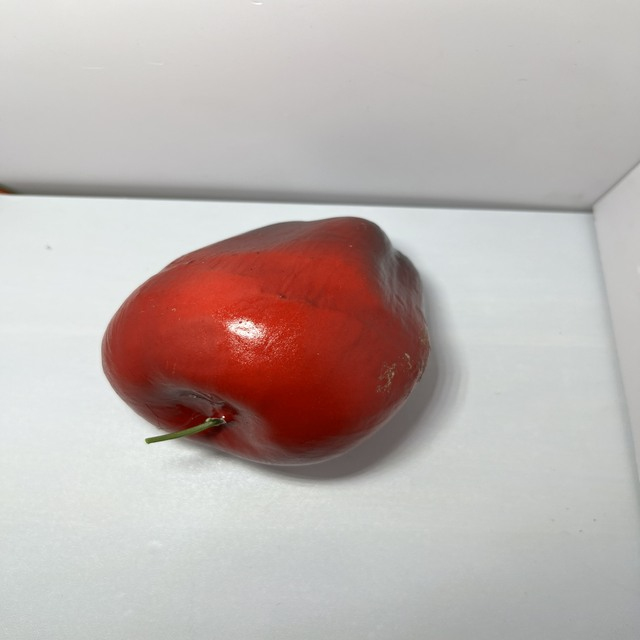Tao: (59, 133, 495, 562)
